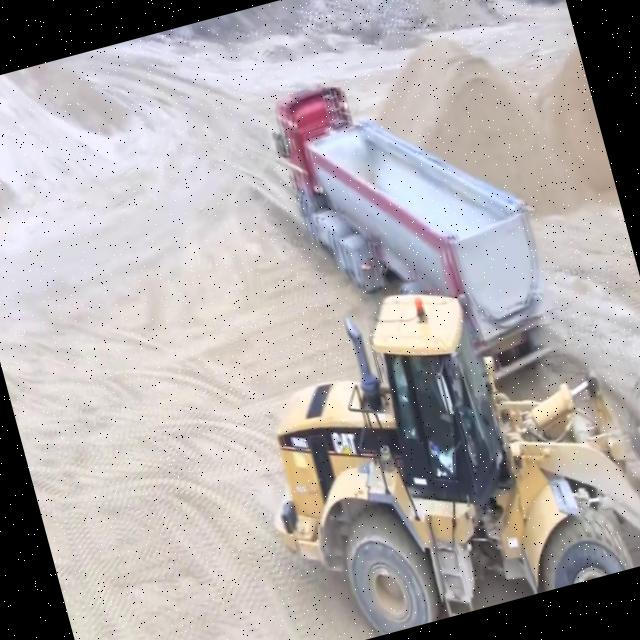Dump Truck: (256, 29, 576, 424)
Loader: (225, 225, 640, 640)
